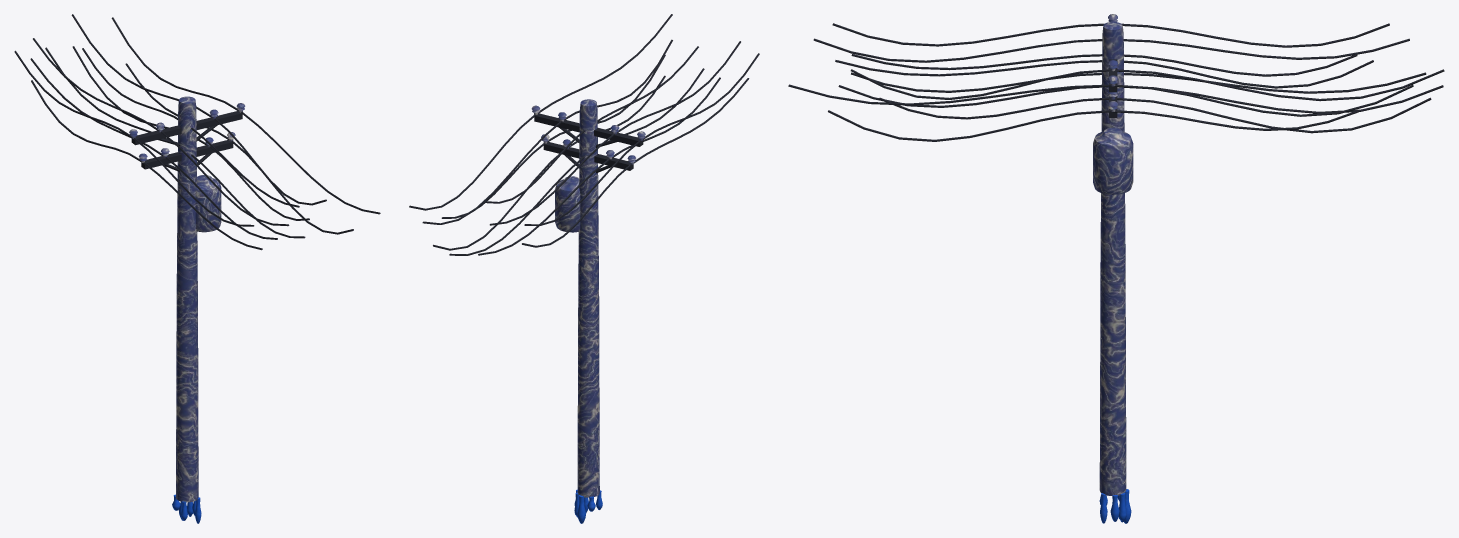
Rendered from utility_pole.glb.
3 renders of one model, left to right at view 1: azimuth 30°, elevation 25°; view 2: azimuth 150°, elevation 25°; view 3: azimuth 270°, elevation 25°, orthographic. The views are drawn at different scales.
Parts seen in each view (by area): view 1: utility_pole; view 2: utility_pole; view 3: utility_pole.
Part boxes in pixels (x1,y1,x2,y2): utility_pole: [14, 14, 380, 523]; utility_pole: [409, 14, 759, 523]; utility_pole: [788, 14, 1444, 523].
Bounding box in the file's own units: 2.26 × 8 × 9.52.
Materials: 1 (1 with a texture image).
